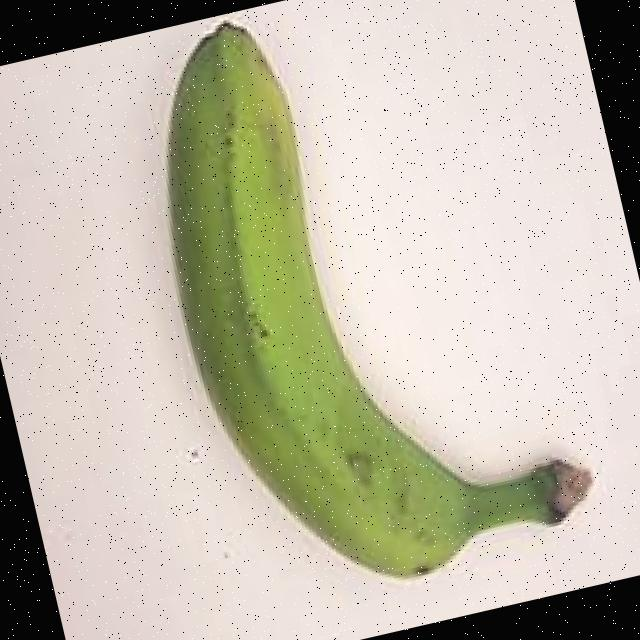Unripe: (75, 0, 620, 635)
